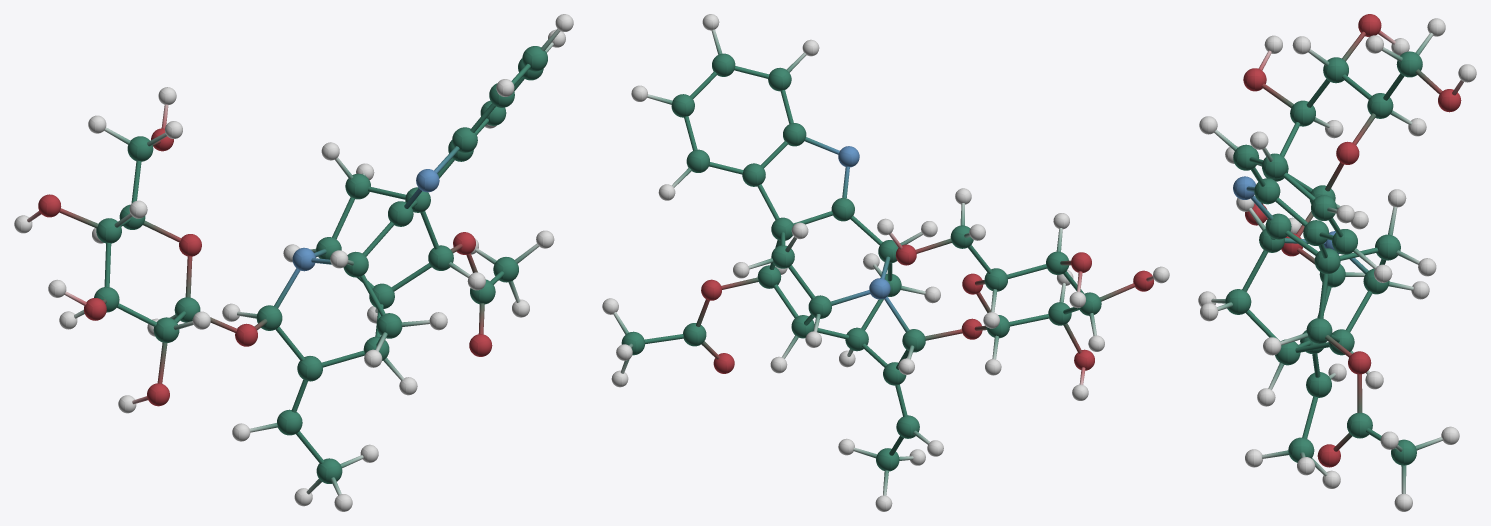
The model's file is Raucaffricine.fbx.
3 renders of one model, left to right at view 1: azimuth 30°, elevation 25°; view 2: azimuth 150°, elevation 25°; view 3: azimuth 270°, elevation 25°, orthographic. The views are drawn at different scales.
Parts seen in each view (by area): view 1: curMeshHyperballExportedMesh; view 2: curMeshHyperballExportedMesh; view 3: curMeshHyperballExportedMesh.
Part boxes in pixels (x1,y1,x2,y2): curMeshHyperballExportedMesh: (14, 14, 573, 511); curMeshHyperballExportedMesh: (602, 14, 1169, 511); curMeshHyperballExportedMesh: (1198, 14, 1476, 511).
Size of the model in its own units: 14.22 by 11.19 by 6.05.
